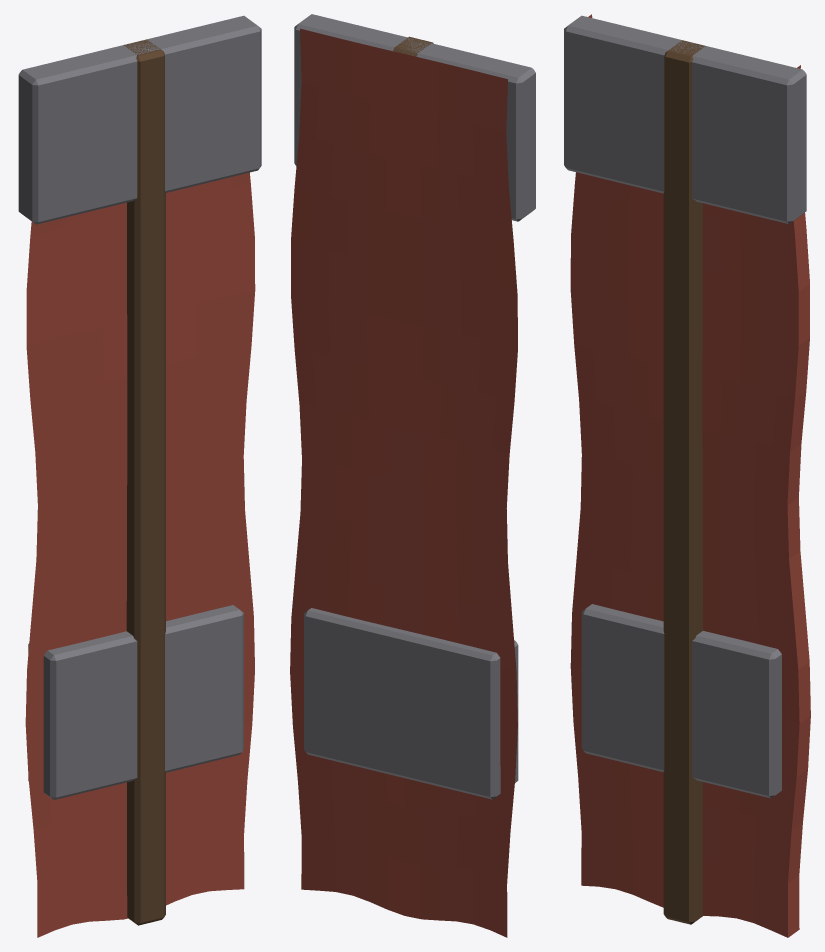
File: banner-long.glb
The picture shows the model from 3 angles, left to right: view 1: azimuth 30°, elevation 25°; view 2: azimuth 150°, elevation 25°; view 3: azimuth 330°, elevation 25°; orthographic projection.
Parts seen in each view (by area): view 1: banner-long; view 2: banner-long; view 3: banner-long.
Boxes of the visible parts, bbox=[...] form: banner-long: bbox=[18, 15, 261, 937]; banner-long: bbox=[290, 14, 535, 937]; banner-long: bbox=[564, 14, 810, 937].
Size of the model in its own units: 1.16 by 4.2 by 0.24.
Materials: 1 (1 with a texture image).
